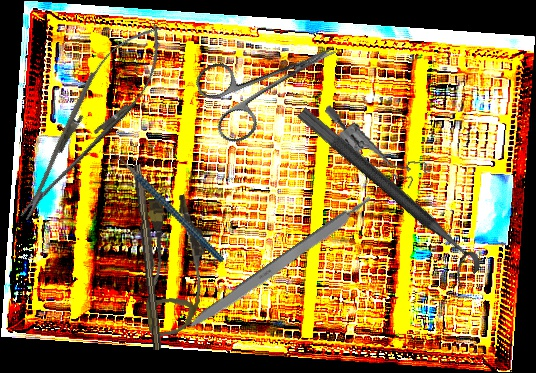Cannula: (131, 192, 216, 338)
Chopper: (98, 121, 225, 290)
Fixation Ring: (283, 105, 486, 289)
Iris Scissors: (191, 14, 354, 149)
Needle Holder: (0, 9, 180, 234)
Scalpel Handle: (184, 194, 377, 335), (130, 163, 168, 351)
Speculum: (313, 103, 440, 194)
